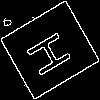H: (25, 25, 82, 79)
